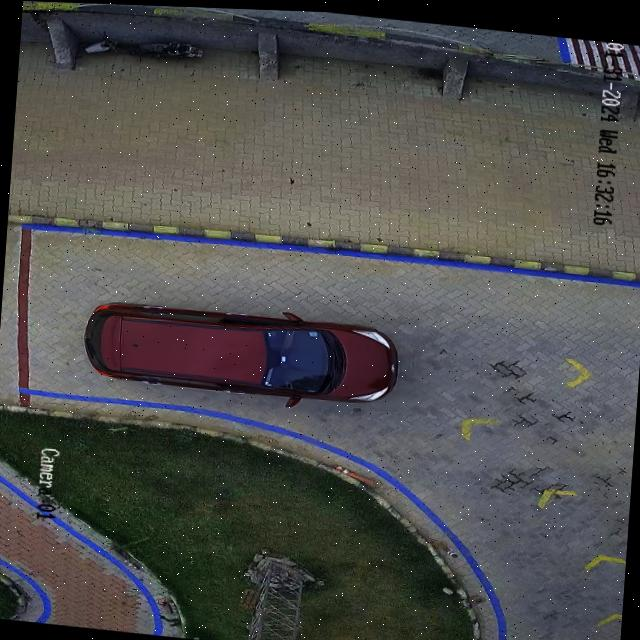car: (86, 302, 396, 404)
